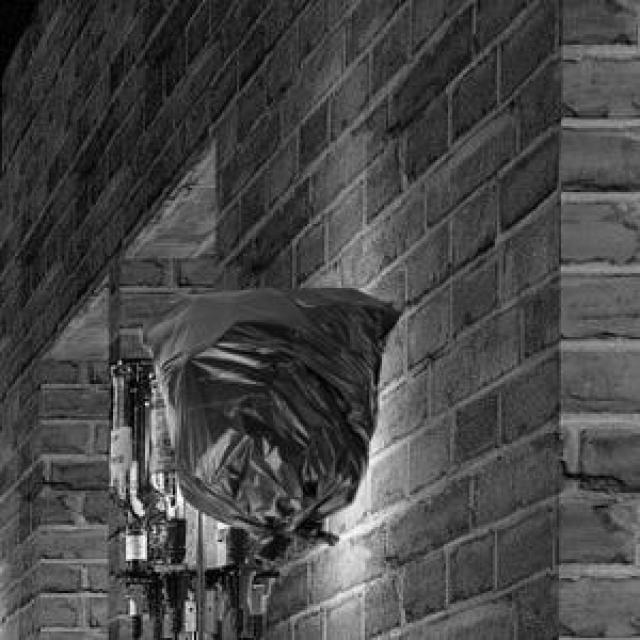miscellaneous trash: (137, 284, 395, 563)
